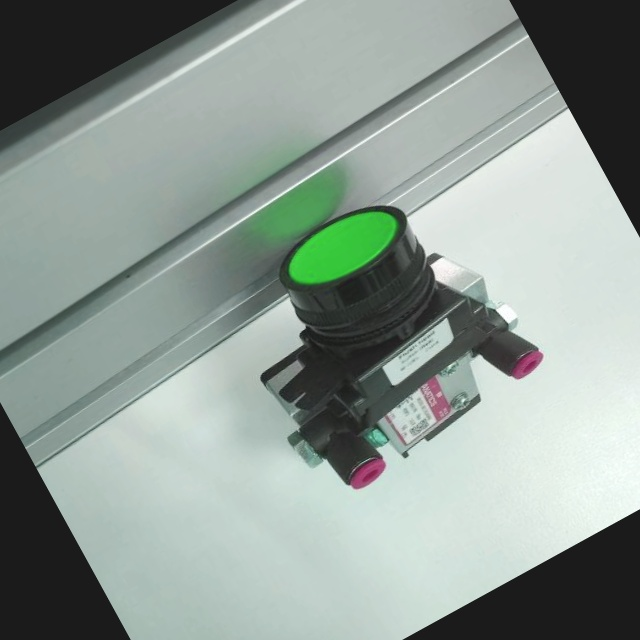push button: (203, 159, 559, 509)
